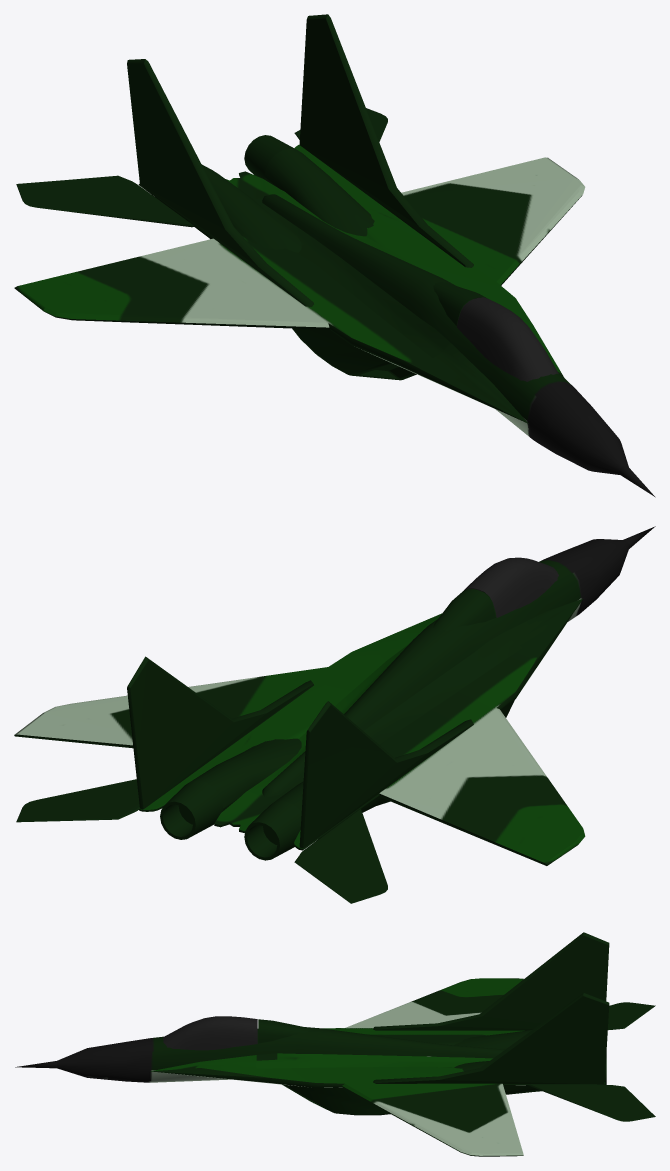
Rendered from ScandiumObject.DAE.
The picture shows the model from 3 angles, top to bottom: view 1: azimuth 30°, elevation 25°; view 2: azimuth 150°, elevation 25°; view 3: azimuth 270°, elevation 25°; orthographic projection. The views are drawn at different scales.
Visible parts, largest first — view 1: Box001; view 2: Box001; view 3: Box001.
Boxes of the visible parts, x1,y1,x2,y2 form: Box001: (14,14,655,497); Box001: (14,526,655,903); Box001: (15,932,655,1156).
Size of the model in its own units: 7.72 by 11.77 by 2.66.
1 material, 1 textured.
